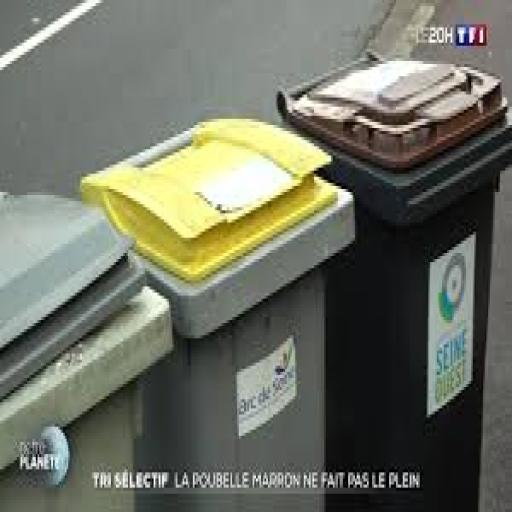poubelle_vide: (80, 149, 388, 512)
